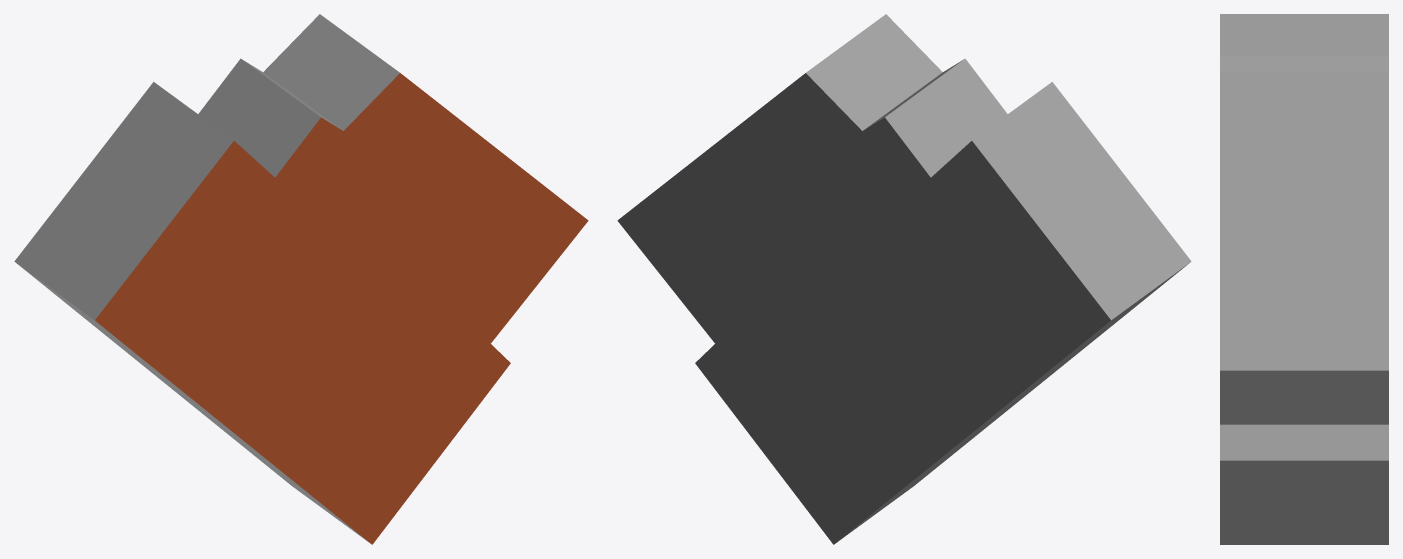
Rendered from construction_5431_assumed_A_Casa_h6m.obj.
The picture shows the model from 3 angles, left to right: view 1: azimuth 30°, elevation 25°; view 2: azimuth 150°, elevation 25°; view 3: azimuth 270°, elevation 25°; orthographic projection. The views are drawn at different scales.
Parts seen in each view (by area): view 1: construction_5431_assumed_A_Casa; view 2: construction_5431_assumed_A_Casa; view 3: construction_5431_assumed_A_Casa.
Boxes of the visible parts, left/top/right/bottom form: construction_5431_assumed_A_Casa: left=14, top=14, right=588, bottom=544; construction_5431_assumed_A_Casa: left=617, top=14, right=1191, bottom=544; construction_5431_assumed_A_Casa: left=1220, top=14, right=1388, bottom=544.
Bounding box in the file's own units: 21.27 × 19.15 × 6.
